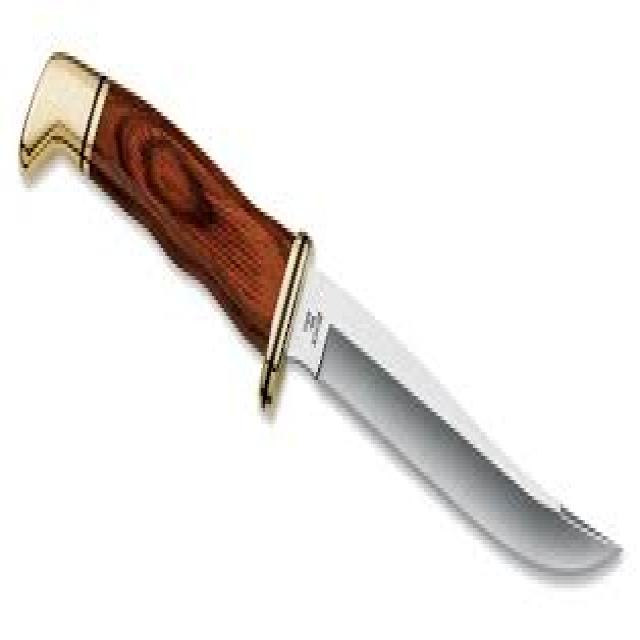knife: (15, 36, 626, 589)
